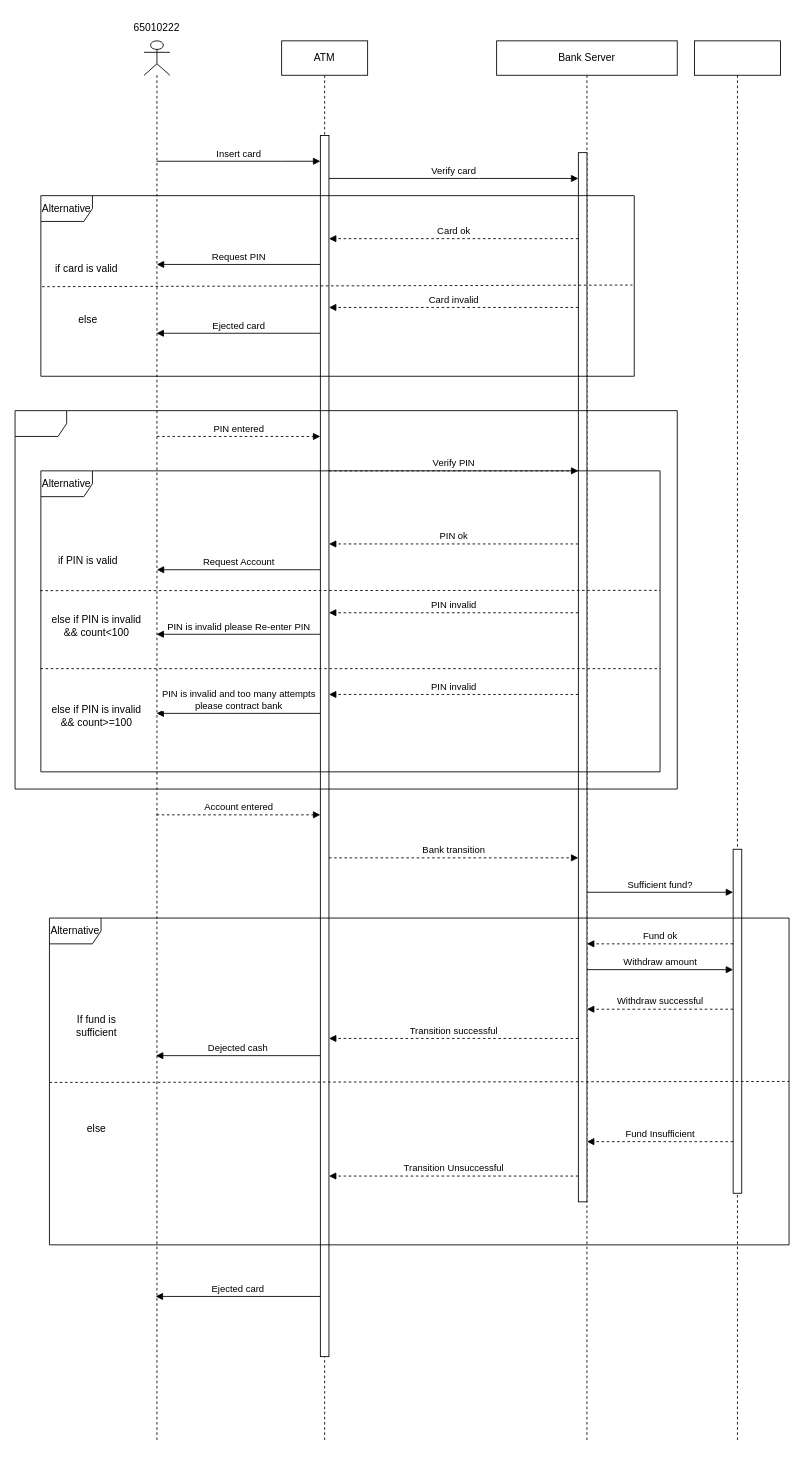
Image size: 805x1458. Some labels were removed from this diagram. Here are the shapes that lost their labels. From the top down, the box of each, then its label:
(14, 410, 677, 789): Loop
(694, 40, 780, 1443): Bank Account
